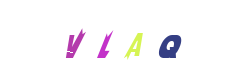A: (95, 0, 175, 80)
L: (84, 0, 164, 80)
Q: (130, 0, 210, 80)
V: (48, 0, 128, 80)
